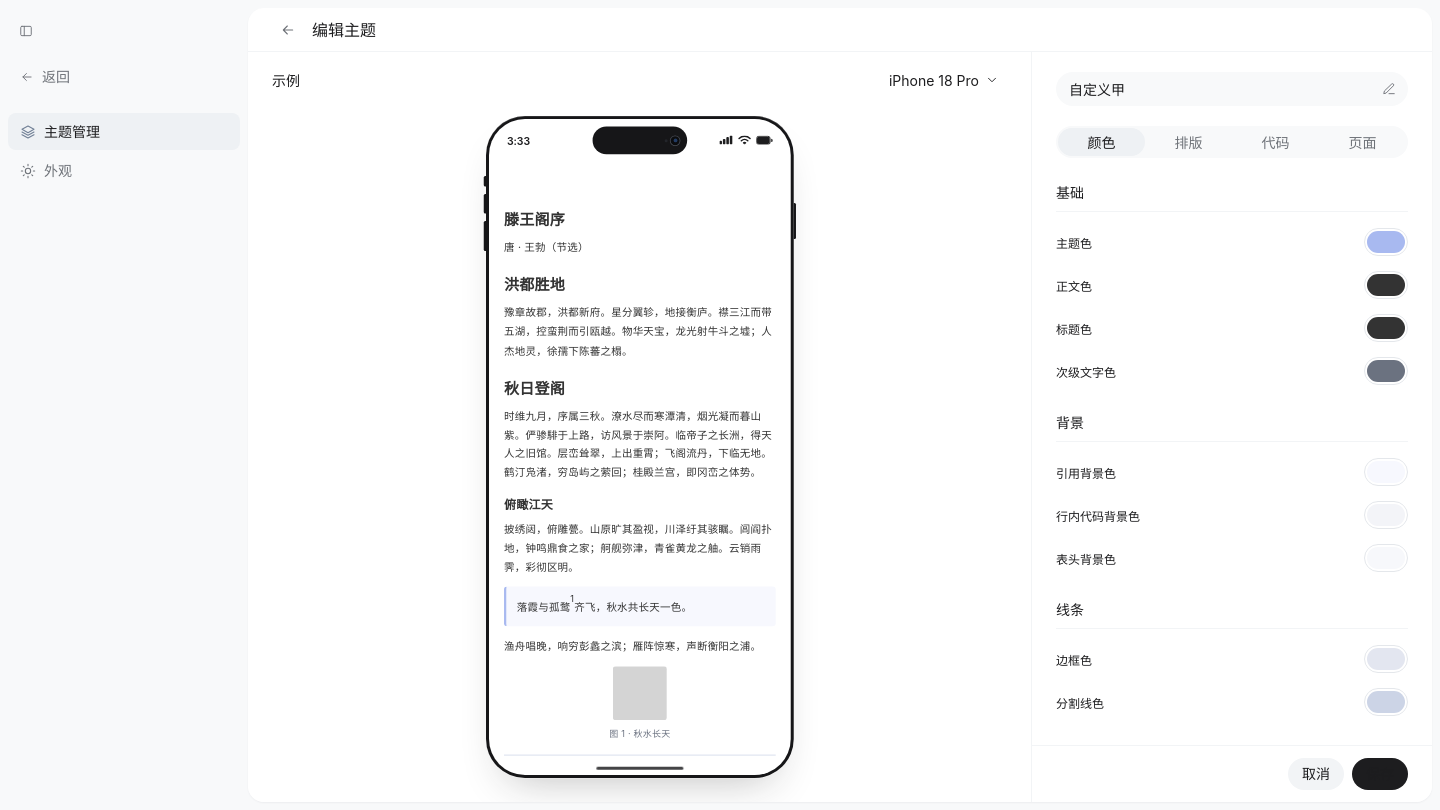
主题编辑器：编辑与取消 › 保存调用更新接口并回到列表
The image size is (1440, 810).
Expected: the heading "编辑主题" is shown, x1=312 y1=18 x2=376 y2=42
Expected: the field named "主题名称" holds "自定义甲", x1=1069 y1=73 x2=1371 y2=105
Click the tab "排版": click(1188, 142) x1=1145 y1=128 x2=1232 y2=156
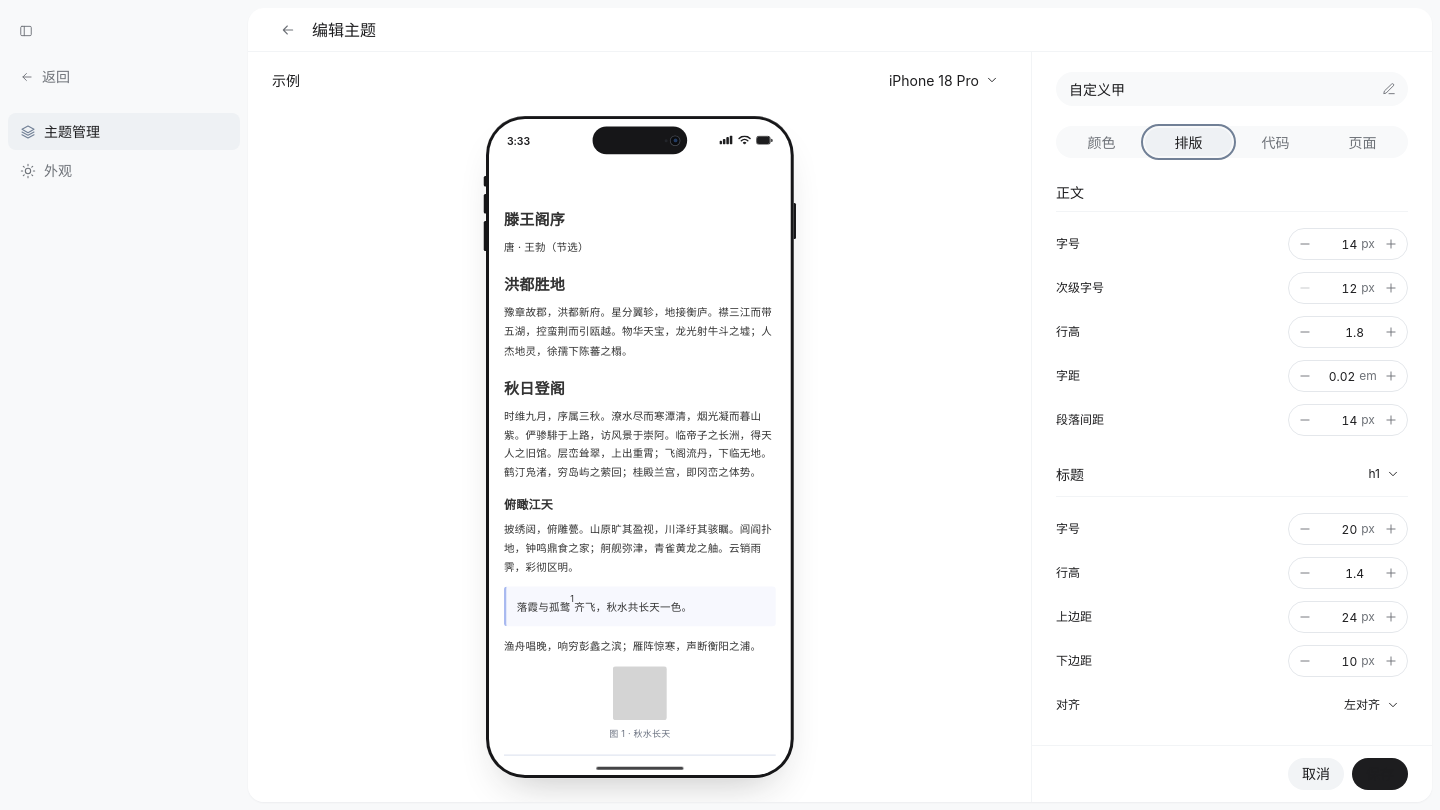
Click the 1st button named "增大字号": click(1391, 244) x1=1377 y1=230 x2=1405 y2=258
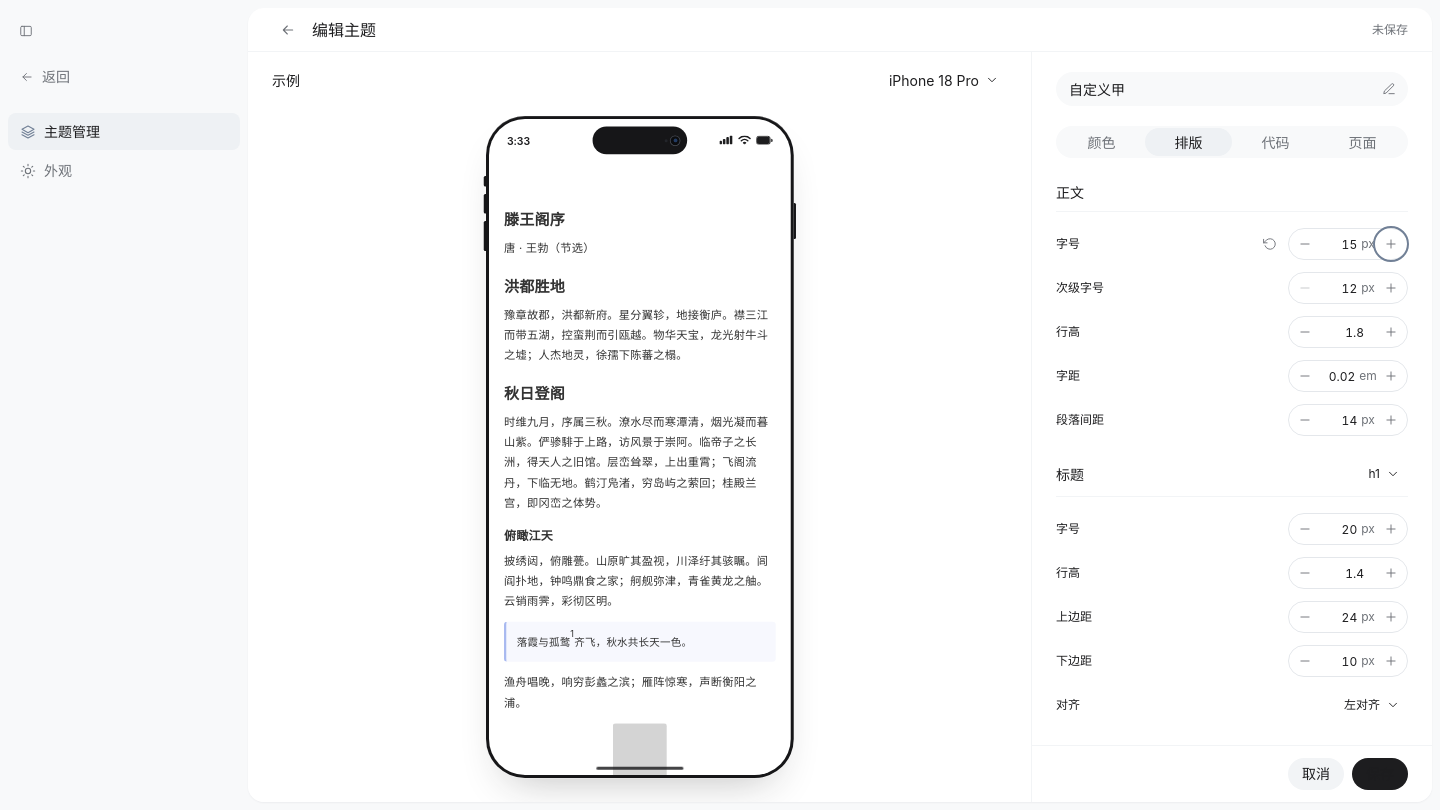
Result: the text "未保存" is shown at x1=1372 y1=22 x2=1408 y2=38
Click the button "保存": click(1380, 774) x1=1352 y1=758 x2=1408 y2=790
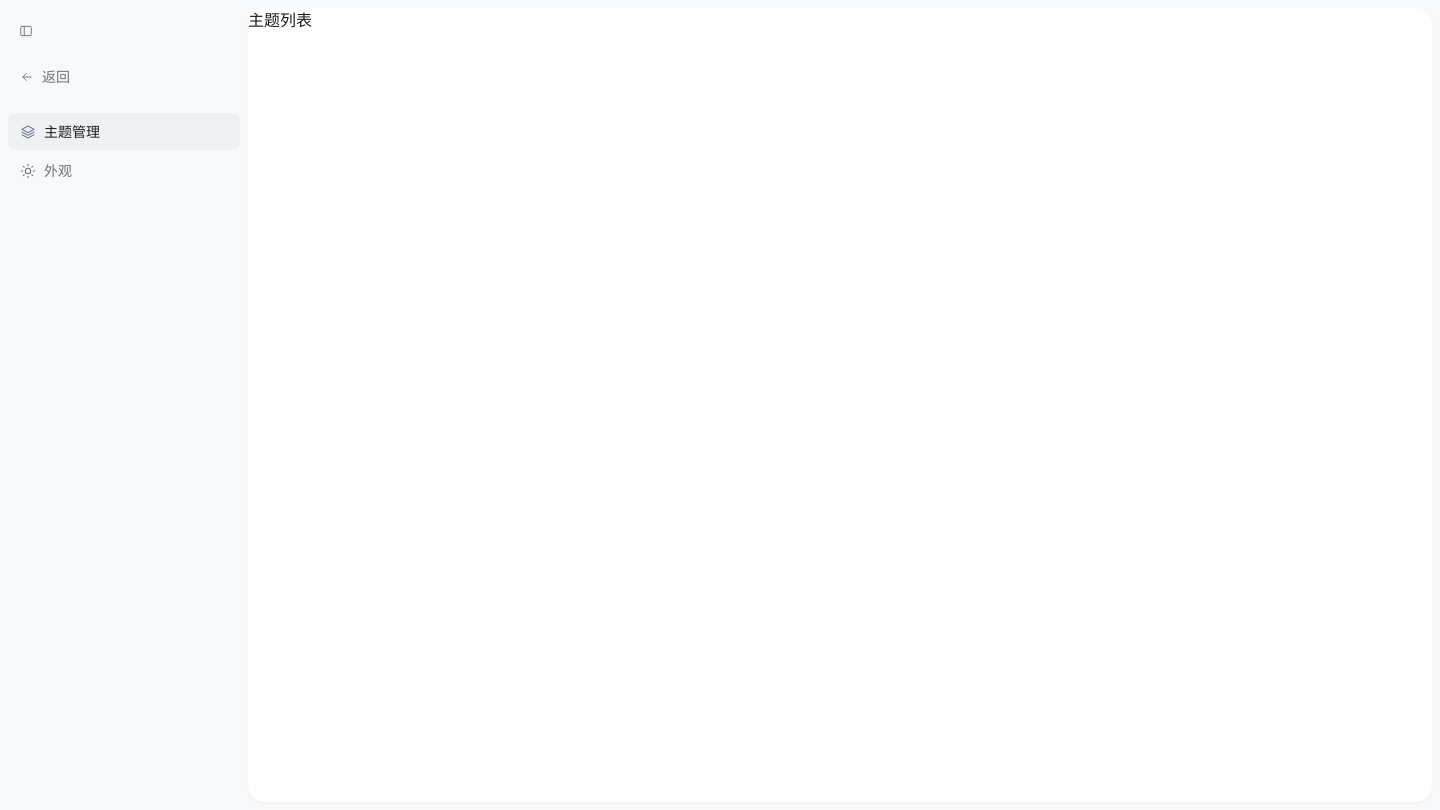
Result: the text "主题列表" is shown at x1=248 y1=10 x2=312 y2=30
